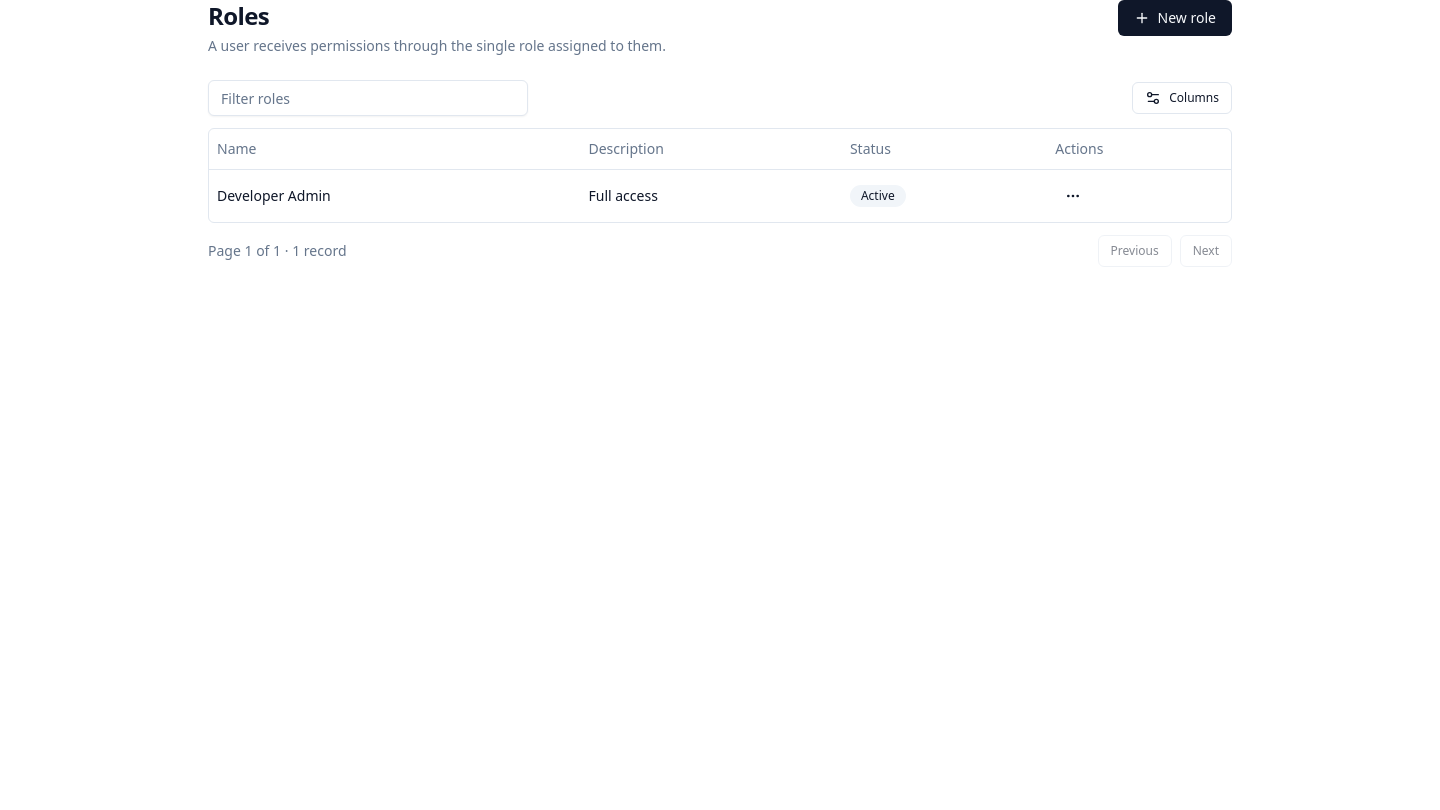
Test: RolesPage — deactivation says what is invisible here › explains that users keep the role but gain nothing from it (FR-AC3)
The width and height of the screenshot is (1440, 810).
Click the button named "actions for developer admin" at point(1073, 196), box left=1055, top=178, right=1091, bottom=214
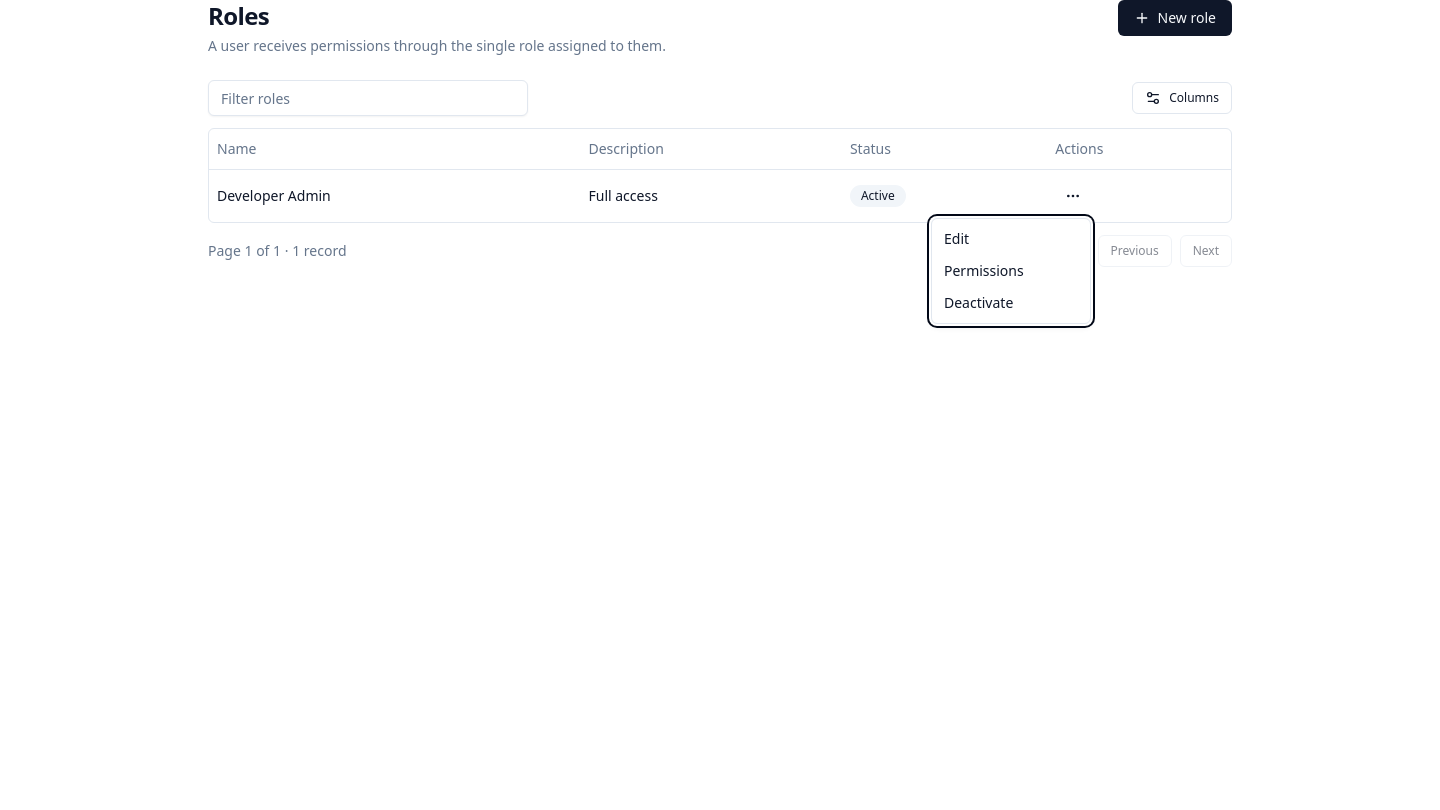
Click the menu item "Deactivate" at point(979, 302), box left=944, top=293, right=1013, bottom=312
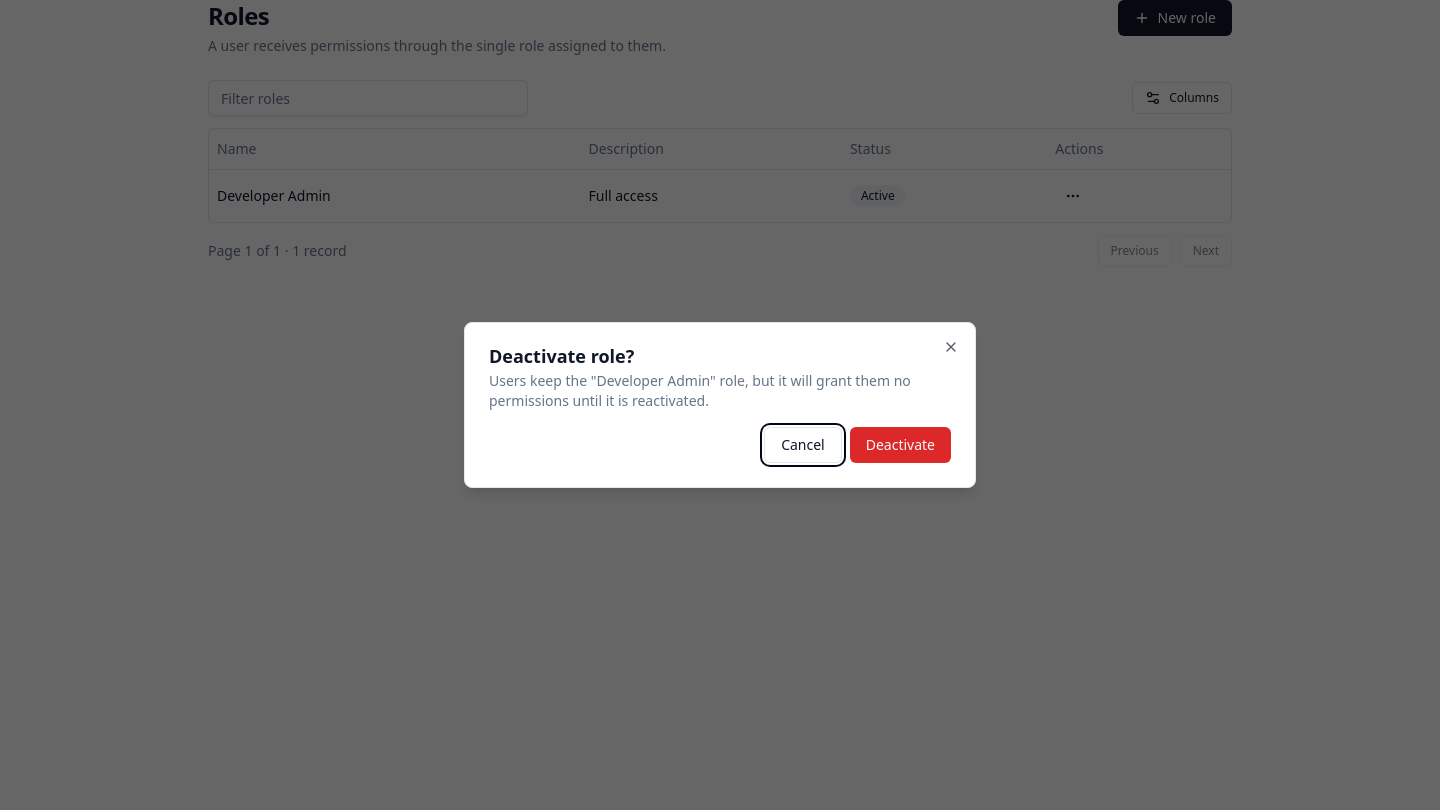
Check: the text "will grant them no permissions" is shown, box left=489, top=371, right=911, bottom=410
